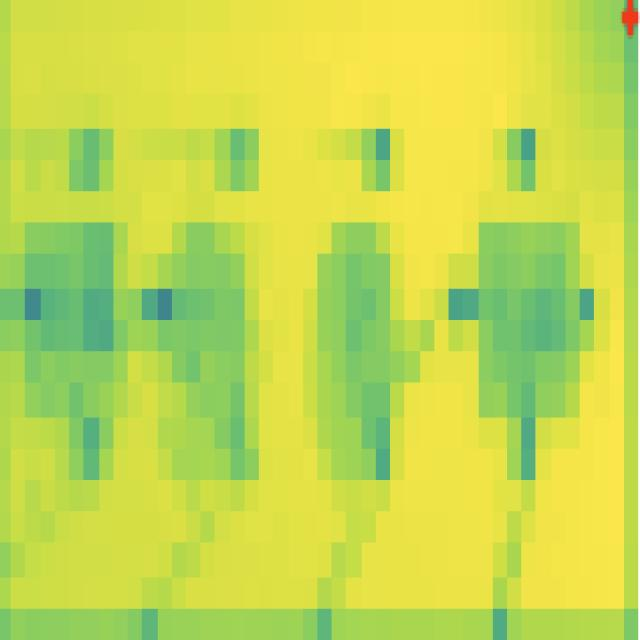Concrete: (315, 225, 406, 484)
Glass: (161, 223, 262, 471)
Metal: (477, 220, 580, 418)
Wood: (25, 222, 126, 420)
